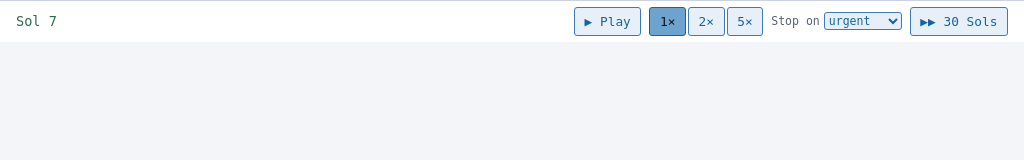
Test: TurnControlBar time controls (issue #332) › ticks repeatedly while playing and stops when paused
Click the button with test id "btn-play-pause": (608, 22) [574, 7, 641, 36]
Wait 3600 ms
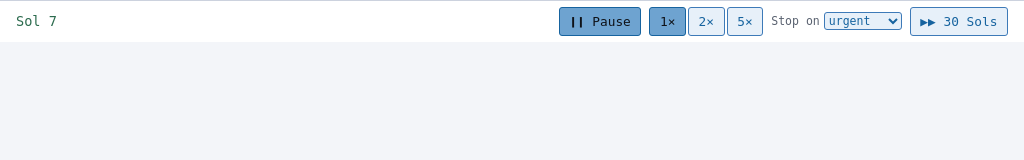
Check: the button with test id "btn-play-pause" shows "Pause"
Click the button with test id "btn-play-pause": (600, 22) [559, 7, 641, 36]
Wait 5000 ms
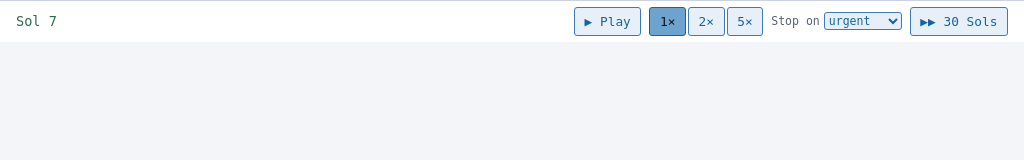
Check: the button with test id "btn-play-pause" shows "Play", box [574, 7, 641, 36]
